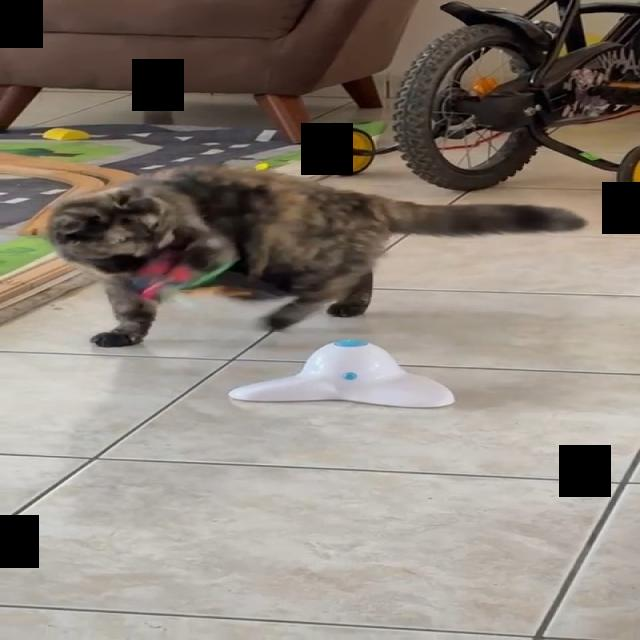authorized: (45, 162, 588, 347)
